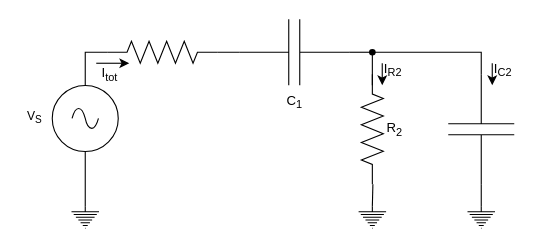
This 550x248 diagram has some shape labels left out. Each missing label, with the box of its shape:
C 2: (447, 73, 514, 184)
R 1: (106, 40, 217, 63)
